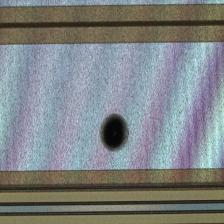PARTICLE: (97, 115, 133, 151)
